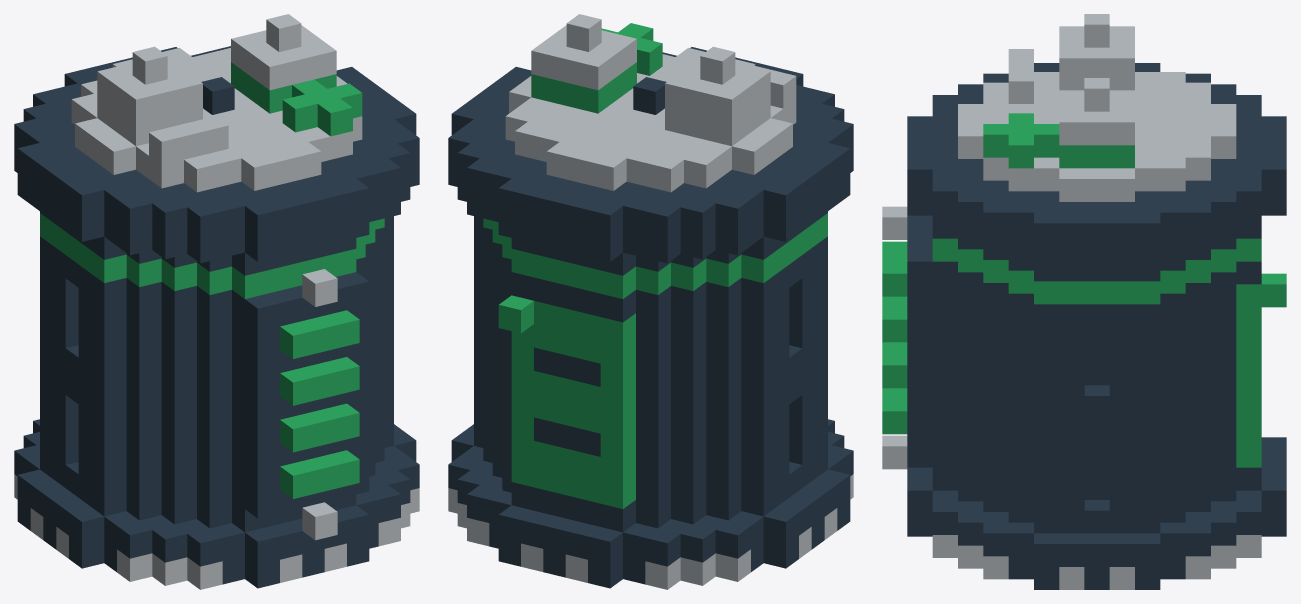
The model's file is Battery_Cell_Voxel.glb.
The picture shows the model from 3 angles, left to right: view 1: azimuth 30°, elevation 25°; view 2: azimuth 150°, elevation 25°; view 3: azimuth 270°, elevation 25°; orthographic projection.
Visible parts, largest first — view 1: Battery_Cell_Voxel; view 2: Battery_Cell_Voxel; view 3: Battery_Cell_Voxel.
Part boxes in pixels (<box>): Battery_Cell_Voxel: <box>14,14,419,589</box>; Battery_Cell_Voxel: <box>448,14,853,589</box>; Battery_Cell_Voxel: <box>882,14,1286,589</box>.
Size of the model in its own units: 1.5 by 2 by 1.6.
